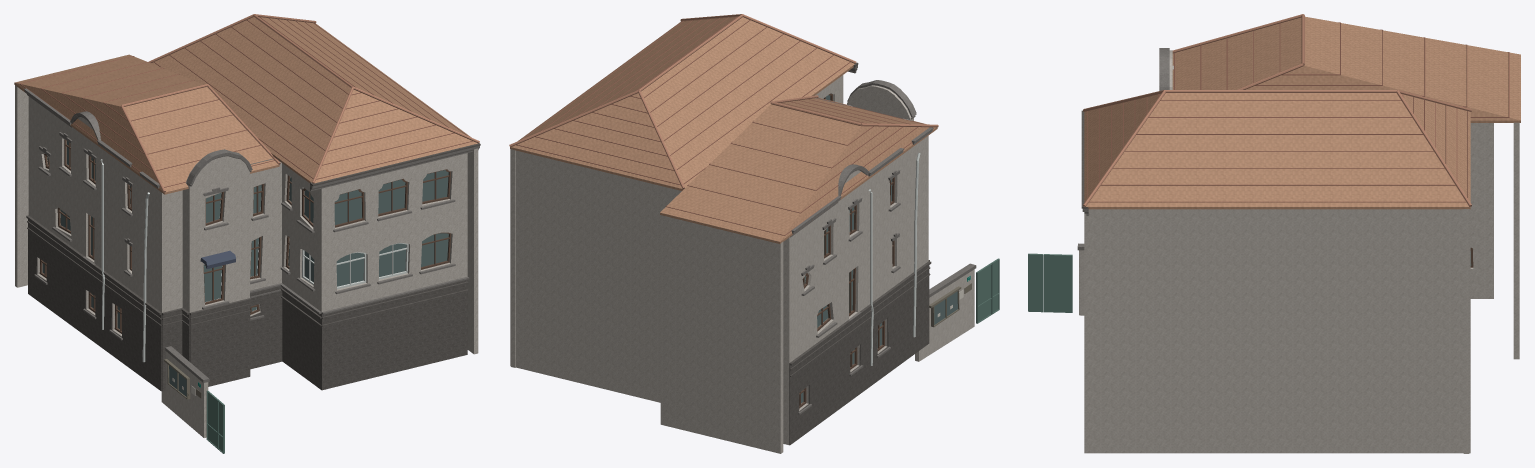
The model's file is lod-source.glb.
3 renders of one model, left to right at view 1: azimuth 30°, elevation 25°; view 2: azimuth 150°, elevation 25°; view 3: azimuth 270°, elevation 25°, orthographic. The views are drawn at different scales.
Visible parts, largest first — view 1: 愚园路1112弄4号蒋光鼐旧居; view 2: 愚园路1112弄4号蒋光鼐旧居; view 3: 愚园路1112弄4号蒋光鼐旧居.
Boxes of the visible parts, x1,y1,x2,y2 form: 愚园路1112弄4号蒋光鼐旧居: [14, 14, 480, 453]; 愚园路1112弄4号蒋光鼐旧居: [509, 14, 999, 453]; 愚园路1112弄4号蒋光鼐旧居: [1028, 14, 1520, 453].
Bounding box in the file's own units: 16.48 × 15.62 × 21.18.
Materials: 15 (5 with a texture image).
